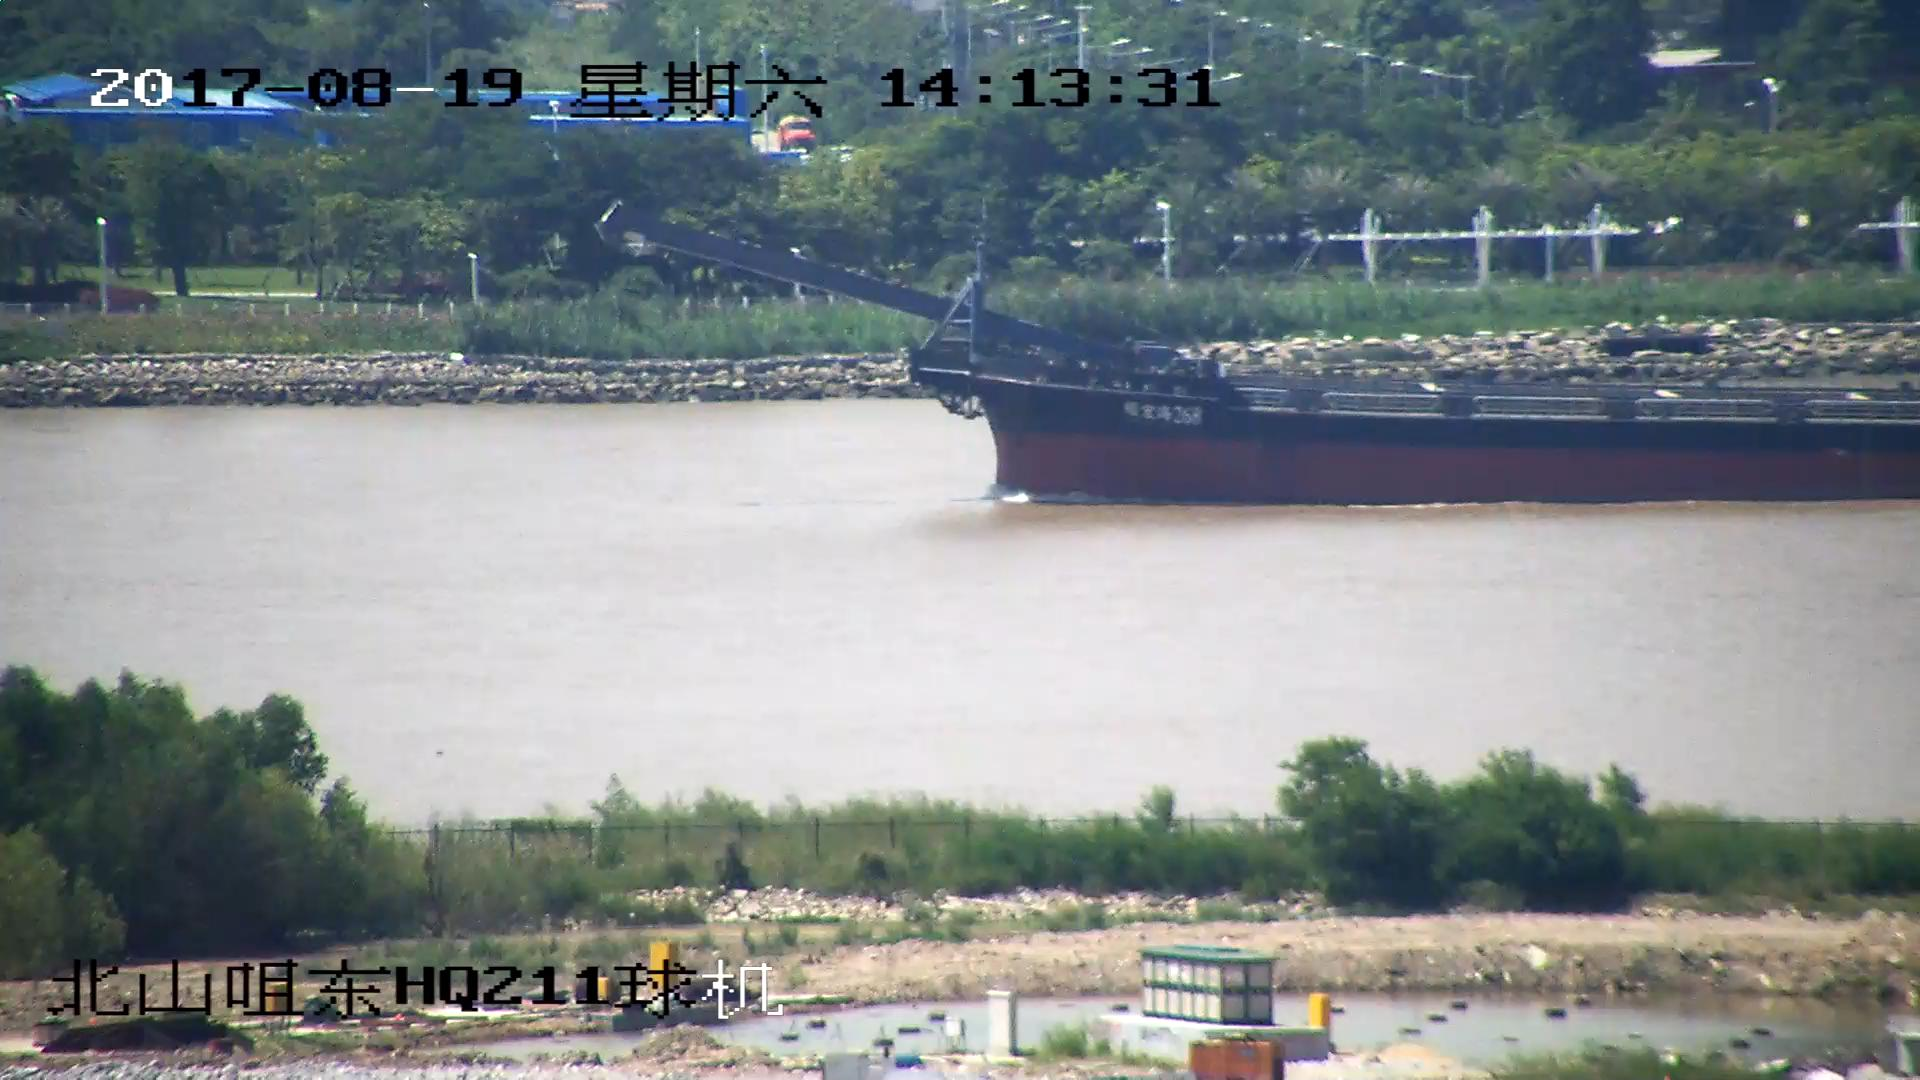bulk cargo carrier: (606, 202, 1920, 505)
